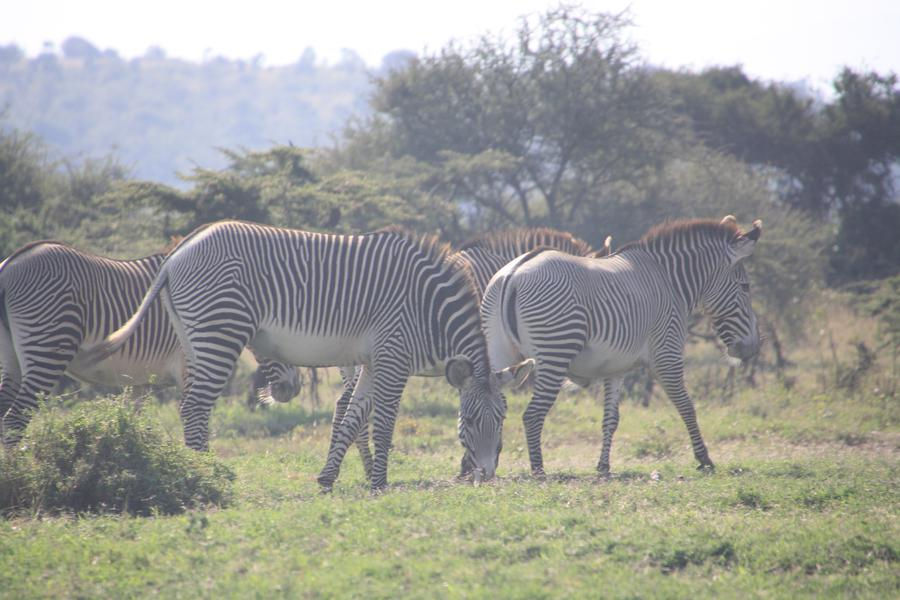zebra_grevys: (154, 206, 416, 373)
